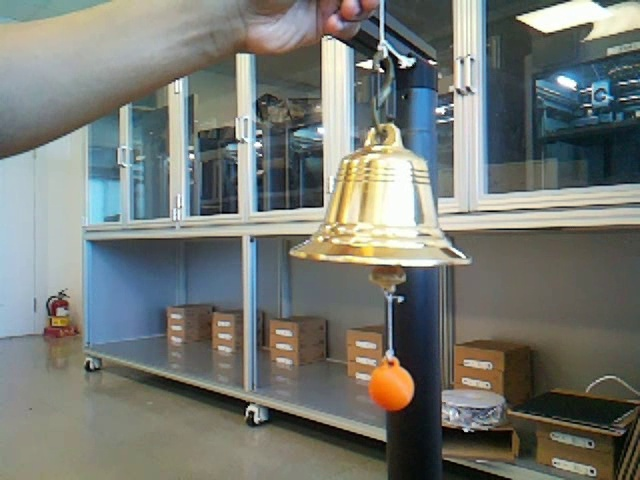bell: (289, 120, 469, 268)
pole: (384, 88, 454, 480)
